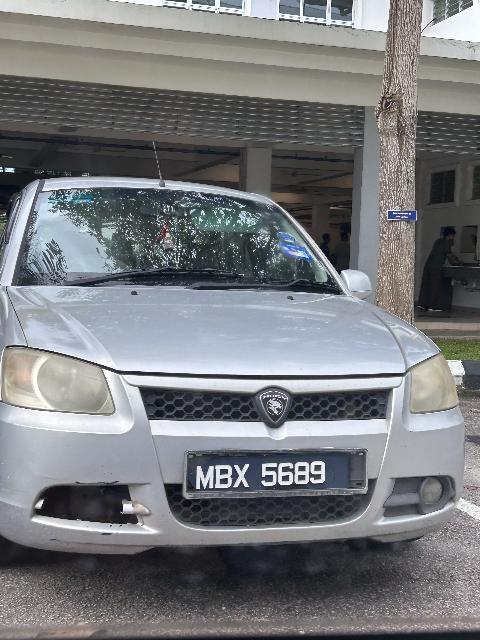License_Plate: (178, 449, 372, 498)
MBX5689: (178, 449, 372, 498)
car: (8, 172, 466, 565)
